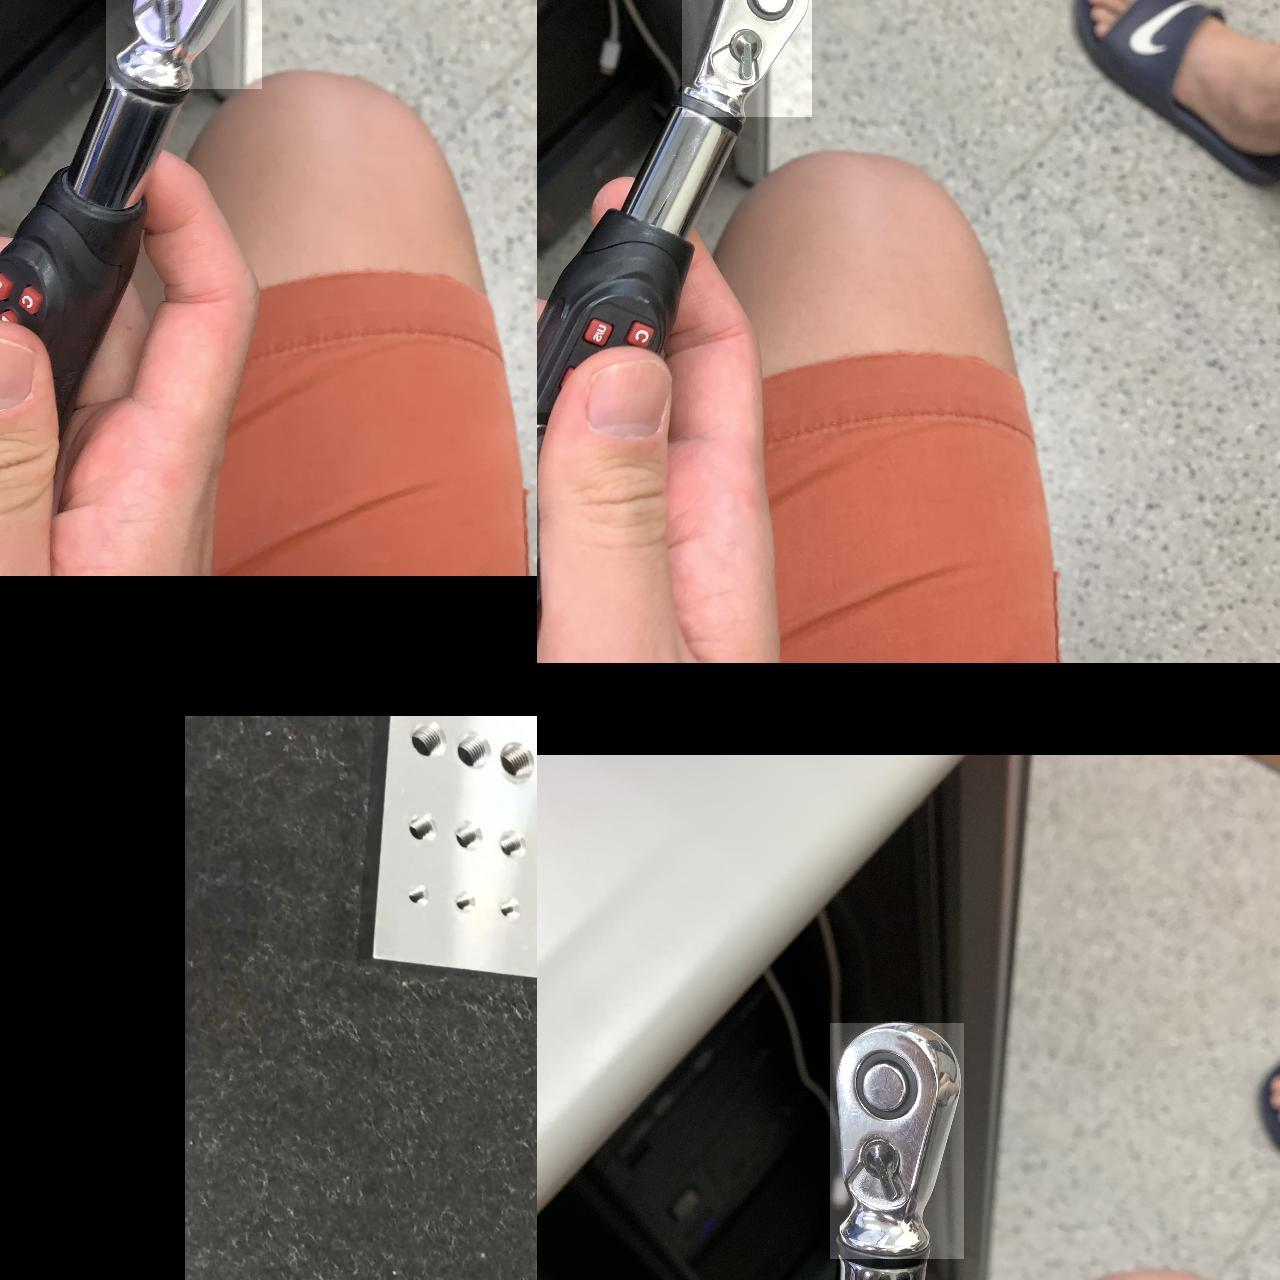Tool: (830, 1022, 964, 1258), (682, 0, 812, 116), (105, 0, 263, 88)
